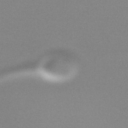normal: (1, 61, 37, 87)
